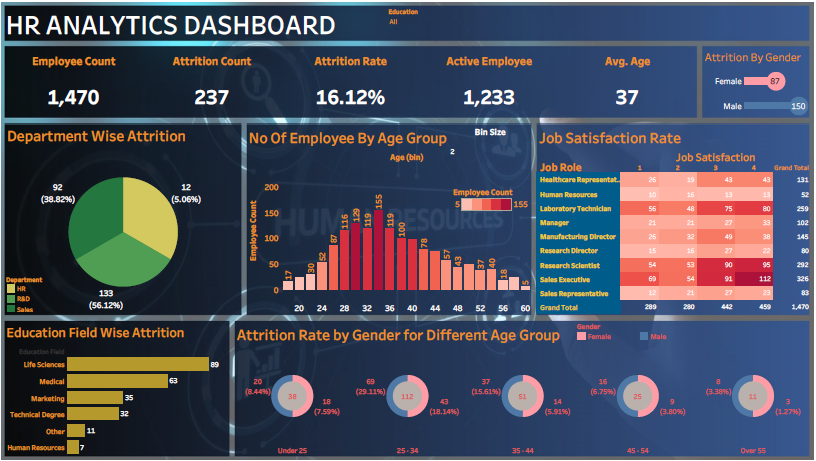

What the dashboard file says about the page in this screenshot:
{"tool":"tableau","page":{"name":"HR ANALYSIS DASHBOARD","canvas":[1580,900],"ordinal":0},"visuals":[{"type":"image","param":"Image/HR background (1).png","box":[8,8,1564,884]},{"type":"text","box":[18,19,845,68]},{"type":"filter","title":"Department Wise Attrition","param":"[federated.0hebw360gwqlmj18pvywy1sb5yuv].[none:Education:nk]","box":[753,20,220,65]},{"type":"worksheet","title":"Attrition By Gender","mark":"Automatic","rows":["Gender"],"cols":["Calculation_1024506902863876","Calculation_1024506902863876"],"box":[1355,96,207,138]},{"type":"worksheet","title":"KPI","mark":"Automatic","box":[18,99,1326,136]},{"type":"worksheet","title":"Department Wise Attrition","mark":"Pie","box":[19,242,453,367]},{"type":"worksheet","title":"No Of Employee By Age Group","mark":"Automatic","rows":["Employee Count"],"cols":["Age (bin)"],"box":[482,245,545,364]},{"type":"worksheet","title":"Job Satisfaction Rate","mark":"Square","rows":["Job Role"],"cols":["Job Satisfaction"],"box":[1038,245,524,364]},{"type":"parameter","param":"[Parameters].[Parameter 1]","box":[870,248,157,105]},{"type":"legend","title":"No Of Employee By Age Group","param":"[federated.0hebw360gwqlmj18pvywy1sb5yuv].[sum:Employee Count:qk]","box":[877,361,148,56]},{"type":"legend","title":"Department Wise Attrition","param":"[federated.0hebw360gwqlmj18pvywy1sb5yuv].[none:Department:nk]","box":[20,531,121,73]},{"type":"worksheet","title":"Education Field Wise Attrition","mark":"Automatic","rows":["Education Field"],"cols":["Calculation_1024506902863876"],"box":[18,620,431,260]},{"type":"legend","title":"Attrition Rate by Gender for Different Age Group","param":"[federated.0hebw360gwqlmj18pvywy1sb5yuv].[none:Gender:nk]","box":[1113,621,448,50]},{"type":"worksheet","title":"Attrition Rate by Gender for Different Age Group","mark":"Pie","rows":["Calculation_1024507127570443","Calculation_1024507127570443"],"cols":["CF_age band"],"box":[459,622,1103,258]}]}

Visuals, with their boxes in screenshot pixels (x1, y1, x2, y2), scaled from the page's 1580x900 canvas onto the 816x461 screenshot:
image: (x1=4, y1=4, x2=812, y2=457)
text: (x1=9, y1=10, x2=446, y2=45)
"Department Wise Attrition" filter: (x1=389, y1=10, x2=503, y2=44)
"Attrition By Gender" worksheet: (x1=700, y1=49, x2=807, y2=120)
"KPI" worksheet: (x1=9, y1=51, x2=694, y2=120)
"Department Wise Attrition" worksheet (Pie marks): (x1=10, y1=124, x2=244, y2=312)
"No Of Employee By Age Group" worksheet: (x1=249, y1=125, x2=530, y2=312)
"Job Satisfaction Rate" worksheet (Square marks): (x1=536, y1=125, x2=807, y2=312)
parameter: (x1=449, y1=127, x2=530, y2=181)
"No Of Employee By Age Group" legend: (x1=453, y1=185, x2=529, y2=214)
"Department Wise Attrition" legend: (x1=10, y1=272, x2=73, y2=309)
"Education Field Wise Attrition" worksheet: (x1=9, y1=318, x2=232, y2=451)
"Attrition Rate by Gender for Different Age Group" legend: (x1=575, y1=318, x2=806, y2=344)
"Attrition Rate by Gender for Different Age Group" worksheet (Pie marks): (x1=237, y1=319, x2=807, y2=451)
